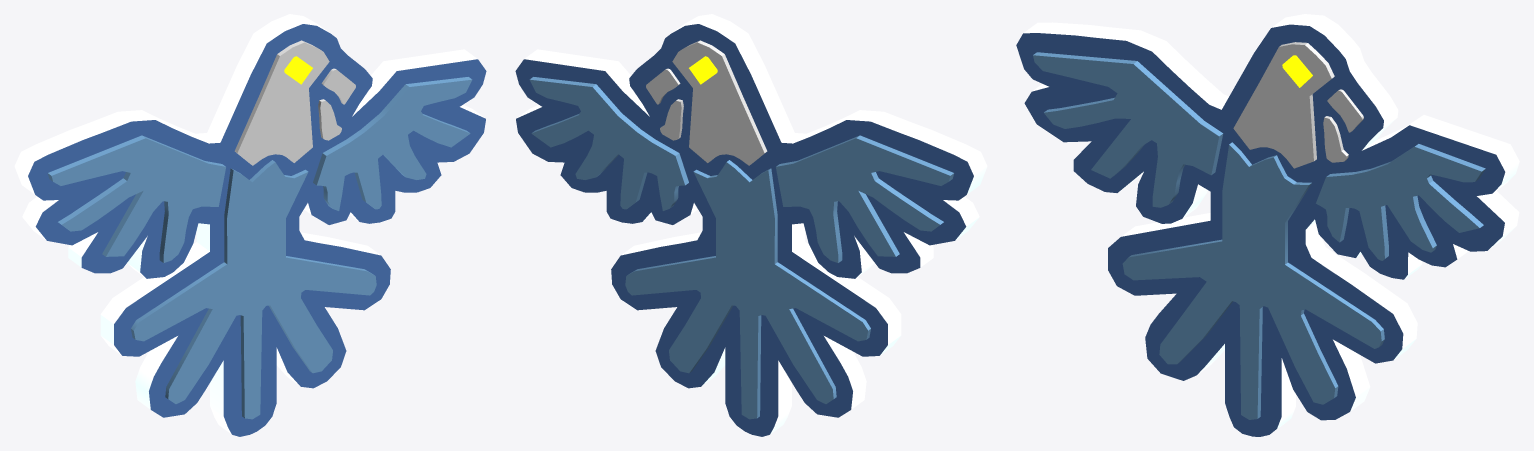
File: Hawk_Marking_Zephyr.fbx
3 renders of one model, left to right at view 1: azimuth 30°, elevation 25°; view 2: azimuth 150°, elevation 25°; view 3: azimuth 330°, elevation 25°, orthographic. The views are drawn at different scales.
Parts seen in each view (by area): view 1: Body; view 2: Body; view 3: Body.
Part boxes in pixels (x1=…): Body: x1=14, y1=14, x2=486, y2=436; Body: x1=515, y1=14, x2=987, y2=436; Body: x1=1016, y1=14, x2=1519, y2=436.
Bounding box in the file's own units: 569 × 472 × 46.23.
